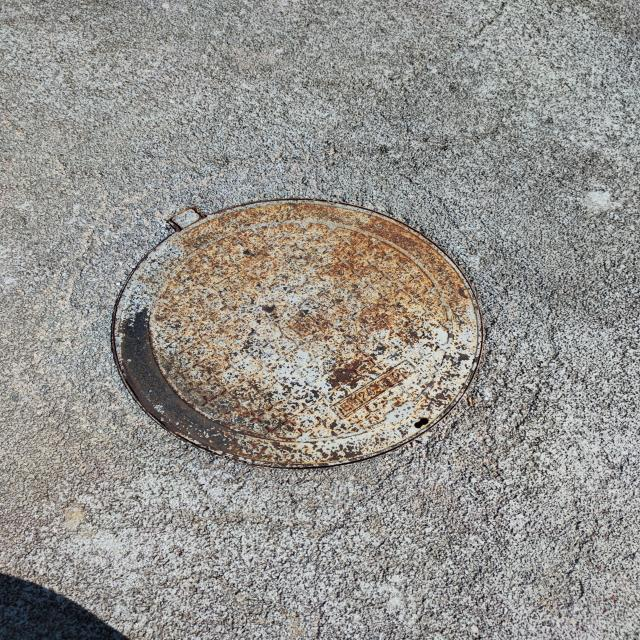Good: (106, 194, 493, 475)
